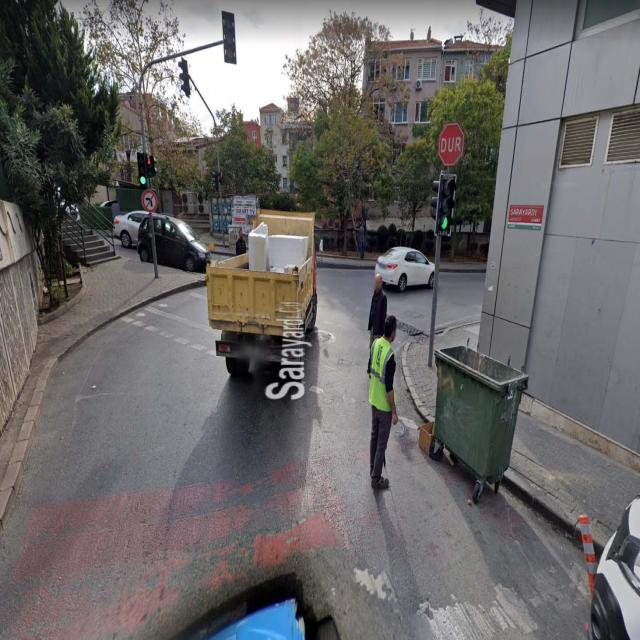dur: (439, 122, 463, 166)
soladonulmez: (142, 190, 156, 213)
yesil: (437, 172, 454, 237), (136, 150, 148, 190)
